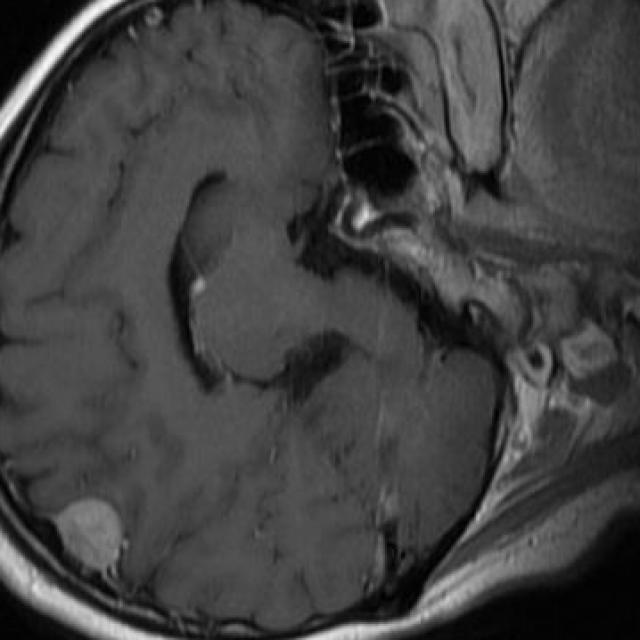meningioma: (59, 503, 123, 569)
